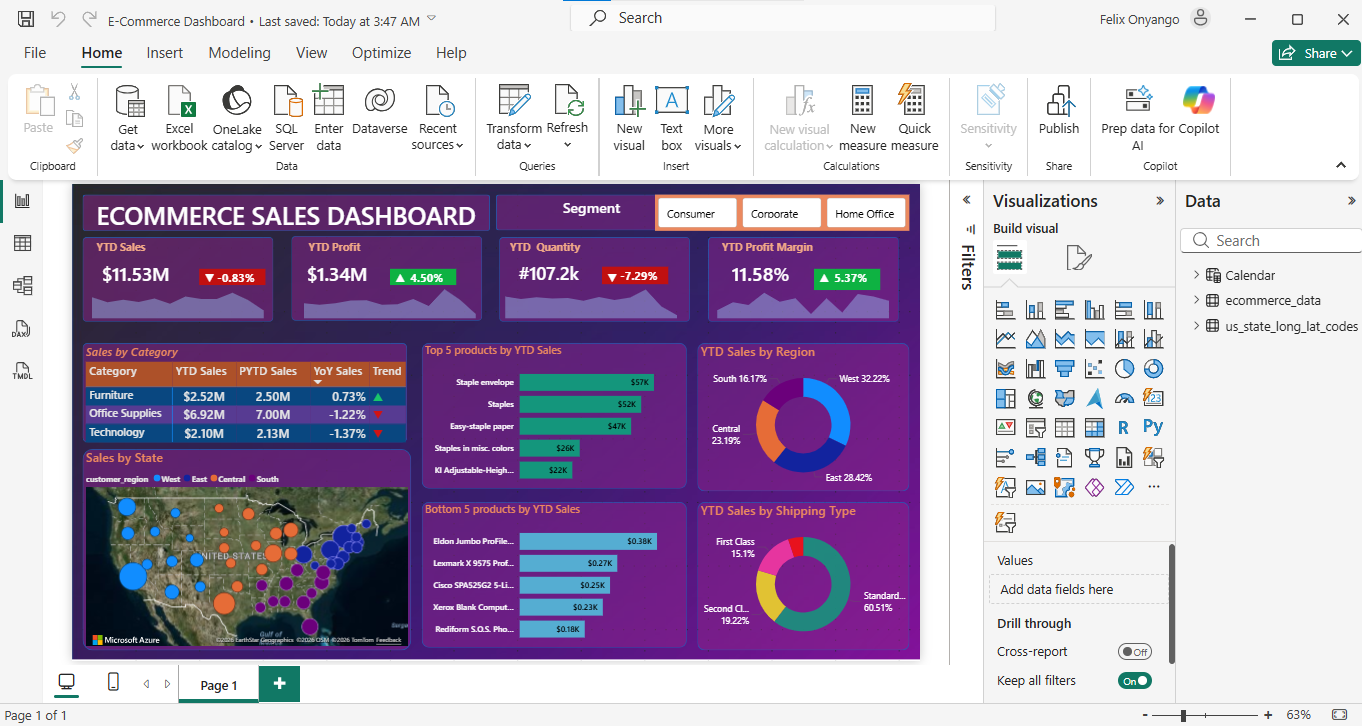

The dashboard page shown, as its layout file describes it:
{"tool":"powerbi","page":{"name":"Page 1","canvas":[1280,720],"ordinal":0},"visuals":[{"type":"shape","box":[16,80,288,128],"z":0},{"type":"shape","box":[16,16,615,55],"z":1000},{"type":"textbox","box":[32,16,592,64],"z":2000},{"type":"shape","box":[16,400,496,304],"z":3000},{"type":"card","fields":{"Values":["ecommerce_data.YTD Sales"]},"box":[32,112,128,48],"z":4000},{"type":"areaChart","fields":{"Category":["Calendar.Month"],"Y":["Sum(ecommerce_data.sales_per_order)"]},"box":[16,144,288,64],"z":5000},{"type":"shape","box":[192,128,100,25],"z":6000},{"type":"card","fields":{"Values":["ecommerce_data.YoY Sales"]},"box":[208,128,80,32],"z":7000},{"type":"card","fields":{"Values":["ecommerce_data.Sale Icon"]},"box":[192,128,32,32],"z":8000},{"type":"textbox","box":[32,80,96,32],"z":9000},{"type":"shape","box":[330.7,79.1,288,128],"z":10000},{"type":"card","fields":{"Values":["ecommerce_data.YTD Profit"]},"box":[336,112,128,48],"z":11000},{"type":"areaChart","fields":{"Category":["Calendar.Month"],"Y":["Sum(ecommerce_data.profit_per_order)"]},"box":[336,144,288,64],"z":12000},{"type":"shape","box":[480,128,100,25],"z":13000},{"type":"card","fields":{"Values":["ecommerce_data.YoY Profit"]},"box":[496,128,80,32],"z":14000},{"type":"textbox","box":[352,80,96,32],"z":15000},{"type":"card","fields":{"Values":["ecommerce_data.Profit Icon"]},"box":[480,128,32,32],"z":16000},{"type":"shape","box":[645.3,80,288,128],"z":17000},{"type":"card","fields":{"Values":["Calendar.YTD Concantenated Qty"]},"box":[656,112,128,48],"z":18000},{"type":"areaChart","fields":{"Category":["Calendar.Month"],"Y":["Sum(ecommerce_data.order_quantity)"]},"box":[640,144,288,64],"z":19000},{"type":"shape","box":[799.4,125.6,100,26],"z":20000},{"type":"card","fields":{"Values":["ecommerce_data.YoY Qty"]},"box":[815.4,125.6,80,32],"z":21000},{"type":"card","fields":{"Values":["ecommerce_data.Qty Icon"]},"box":[800,128,32,32],"z":22000},{"type":"textbox","box":[656,80,128,32],"z":23000},{"type":"shape","box":[960,80,288,128],"z":24000},{"type":"card","fields":{"Values":["Calendar.Profit Margin"]},"box":[976,112,128,48],"z":25000},{"type":"areaChart","fields":{"Category":["Calendar.Month"],"Y":["Calendar.Profit Margin"]},"box":[960,144,288,64],"z":26000},{"type":"shape","box":[1120,128,100,32],"z":27000},{"type":"card","fields":{"Values":["ecommerce_data.YoY Sales"]},"box":[1136,128,80,32],"z":28000},{"type":"card","fields":{"Values":["ecommerce_data.Profit Margin  Icon"]},"box":[1120,128,32,32],"z":29000},{"type":"textbox","box":[976,80,176,32],"z":30000},{"type":"shape","box":[16,240,490,150],"z":31000},{"type":"pivotTable","title":"Sales by Category ","fields":{"Rows":["ecommerce_data.category_name"],"Values":["ecommerce_data.YTD Sales","Calendar.PYTD Sales","ecommerce_data.YoY Sales","ecommerce_data.Sale Icon"]},"box":[16,240,496,160],"z":32000},{"type":"azureMap","title":"Sales by State","fields":{"Y":["us_state_long_lat_codes.latitude"],"X":["us_state_long_lat_codes.longitude"],"Size":["ecommerce_data.YTD Sales"],"Series":["ecommerce_data.customer_region"]},"box":[16,400,496,304],"z":33000},{"type":"shape","box":[528,240,400,220],"z":34000},{"type":"shape","box":[528,480,400,220],"z":35000},{"type":"barChart","title":"Top 5 products by YTD Sales","fields":{"Category":["ecommerce_data.product_name"],"Y":["ecommerce_data.YTD Sales"]},"box":[528,240,400,224],"z":36000},{"type":"barChart","title":"Bottom 5 products by YTD Sales","fields":{"Category":["ecommerce_data.product_name"],"Y":["ecommerce_data.YTD Sales"]},"box":[528,480,400,224],"z":37000},{"type":"shape","box":[944,240,320,224],"z":38000},{"type":"shape","box":[944,480,320,224],"z":38001},{"type":"donutChart","title":"YTD Sales by Region","fields":{"Category":["ecommerce_data.customer_region"],"Y":["ecommerce_data.YTD Sales"]},"box":[944,240,320,224],"z":38002},{"type":"donutChart","title":"YTD Sales by Shipping Type","fields":{"Y":["ecommerce_data.YTD Sales"],"Category":["ecommerce_data.shipping_type"]},"box":[944,480,320,224],"z":38003},{"type":"shape","box":[640,16,624,54],"z":38004},{"type":"advancedSlicerVisual","fields":{"Values":["ecommerce_data.customer_segment"]},"box":[880,16,384,55],"z":38005},{"type":"textbox","box":[736,16,112,48],"z":38006}]}

Visuals, with their boxes on the page's 1280x720 design canvas (x1, y1, x2, y2). These are canvas units, not pixel positions in the 1362x726 screenshot, which may show the page scaled, cropped or inside an application window:
shape: (16, 80, 304, 208)
shape: (16, 16, 631, 71)
textbox: (32, 16, 624, 80)
shape: (16, 400, 512, 704)
card - ecommerce_data.YTD Sales: (32, 112, 160, 160)
areaChart - Calendar.Month x Sum(ecommerce_data.sales_per_order): (16, 144, 304, 208)
shape: (192, 128, 292, 153)
card - ecommerce_data.YoY Sales: (208, 128, 288, 160)
card - ecommerce_data.Sale Icon: (192, 128, 224, 160)
textbox: (32, 80, 128, 112)
shape: (331, 79, 619, 207)
card - ecommerce_data.YTD Profit: (336, 112, 464, 160)
areaChart - Calendar.Month x Sum(ecommerce_data.profit_per_order): (336, 144, 624, 208)
shape: (480, 128, 580, 153)
card - ecommerce_data.YoY Profit: (496, 128, 576, 160)
textbox: (352, 80, 448, 112)
card - ecommerce_data.Profit Icon: (480, 128, 512, 160)
shape: (645, 80, 933, 208)
card - Calendar.YTD Concantenated Qty: (656, 112, 784, 160)
areaChart - Calendar.Month x Sum(ecommerce_data.order_quantity): (640, 144, 928, 208)
shape: (799, 126, 899, 152)
card - ecommerce_data.YoY Qty: (815, 126, 895, 158)
card - ecommerce_data.Qty Icon: (800, 128, 832, 160)
textbox: (656, 80, 784, 112)
shape: (960, 80, 1248, 208)
card - Calendar.Profit Margin: (976, 112, 1104, 160)
areaChart - Calendar.Month x Calendar.Profit Margin: (960, 144, 1248, 208)
shape: (1120, 128, 1220, 160)
card - ecommerce_data.YoY Sales: (1136, 128, 1216, 160)
card - ecommerce_data.Profit Margin  Icon: (1120, 128, 1152, 160)
textbox: (976, 80, 1152, 112)
shape: (16, 240, 506, 390)
"Sales by Category " pivotTable: (16, 240, 512, 400)
"Sales by State" azureMap: (16, 400, 512, 704)
shape: (528, 240, 928, 460)
shape: (528, 480, 928, 700)
"Top 5 products by YTD Sales" barChart: (528, 240, 928, 464)
"Bottom 5 products by YTD Sales" barChart: (528, 480, 928, 704)
shape: (944, 240, 1264, 464)
shape: (944, 480, 1264, 704)
"YTD Sales by Region" donutChart: (944, 240, 1264, 464)
"YTD Sales by Shipping Type" donutChart: (944, 480, 1264, 704)
shape: (640, 16, 1264, 70)
advancedSlicerVisual - ecommerce_data.customer_segment: (880, 16, 1264, 71)
textbox: (736, 16, 848, 64)
